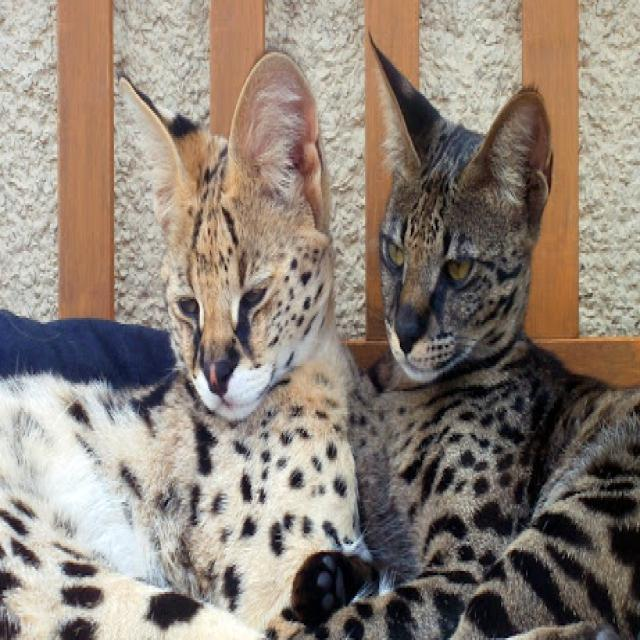Savannah: (0, 39, 361, 640), (359, 31, 640, 639)
